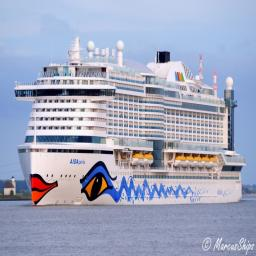cruises: (14, 34, 249, 211)
